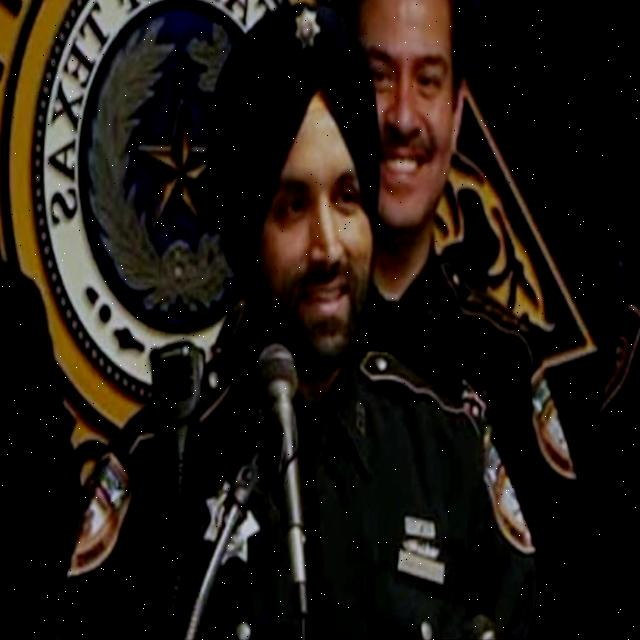police: (64, 1, 531, 640)
